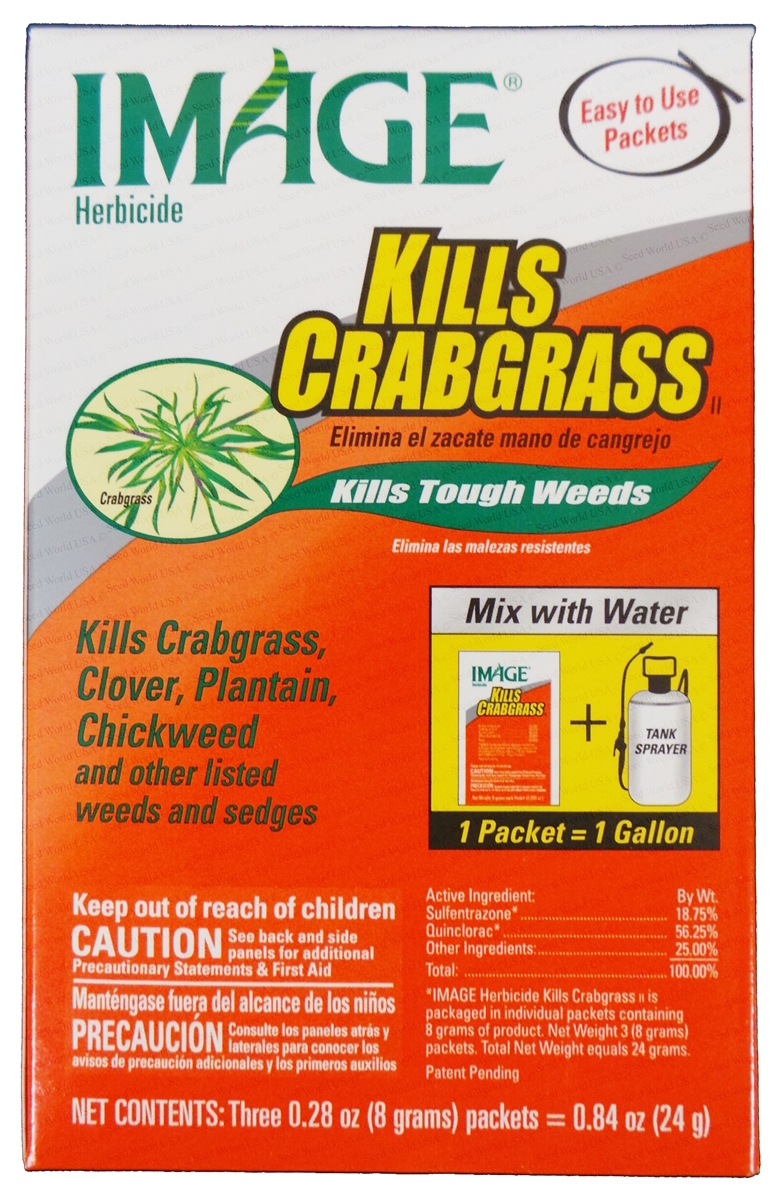crabgrass: (100, 387, 271, 495)
